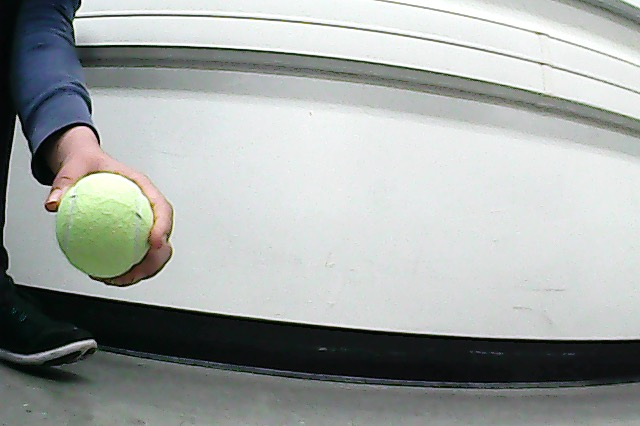ball: (57, 173, 153, 277)
